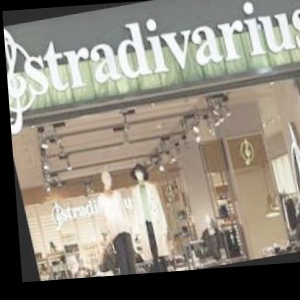stradivarius: (110, 59, 300, 218), (80, 85, 121, 277)
